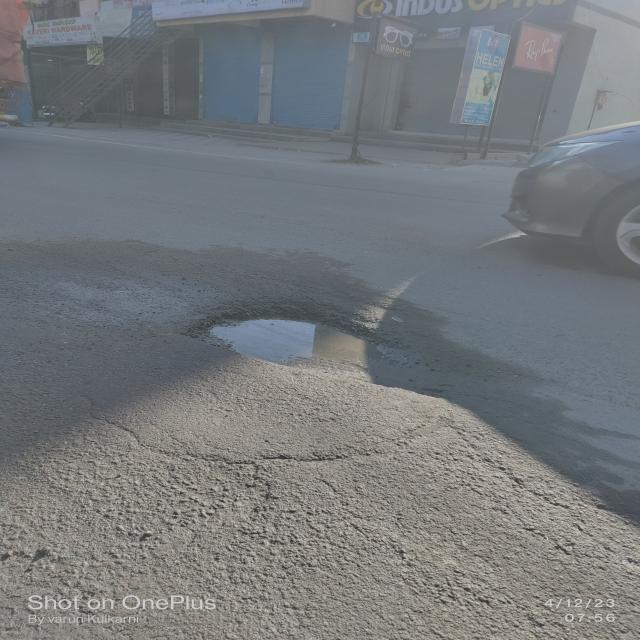Puddle pothole: (207, 296, 404, 377)
